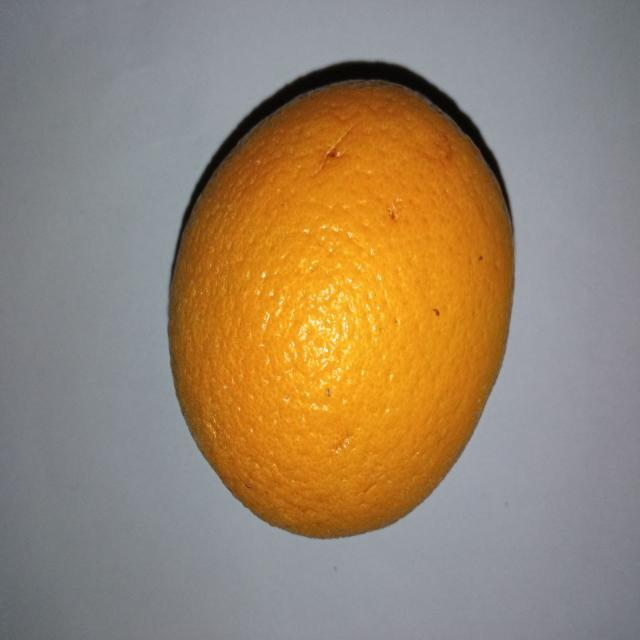fresh_orange: (167, 78, 509, 540)
